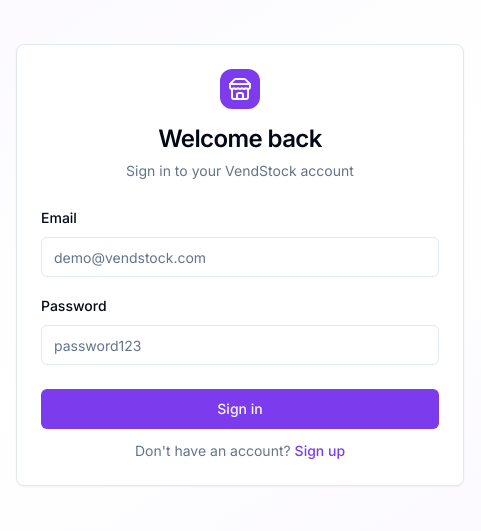
LoginPage › shows validation errors for empty form
Click the button "Sign in" at (240, 409), box [41, 389, 439, 429]
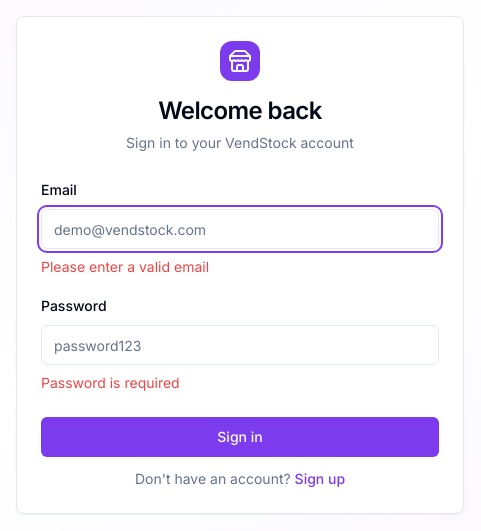
Now the text "Please enter a valid email" is shown, box [41, 258, 209, 275]
